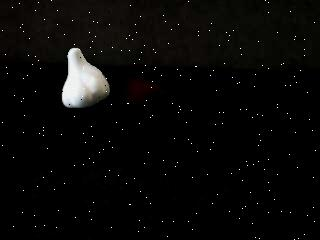Garlic: (62, 48, 109, 110)
